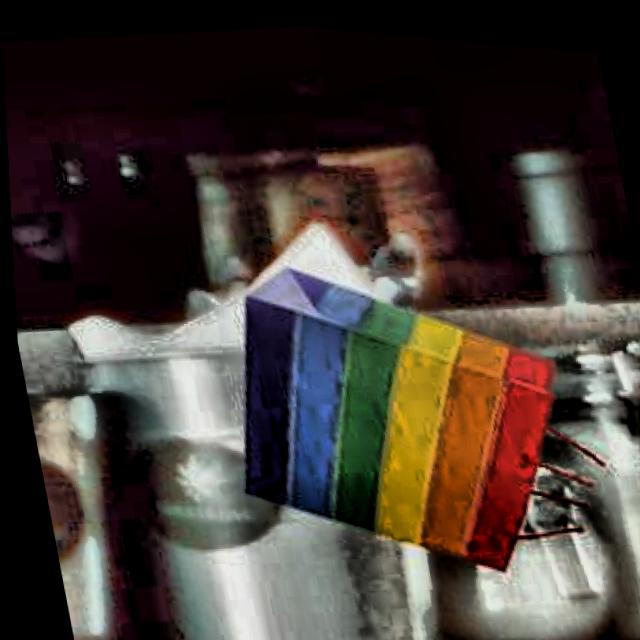Paper-bag: (176, 206, 625, 608)
